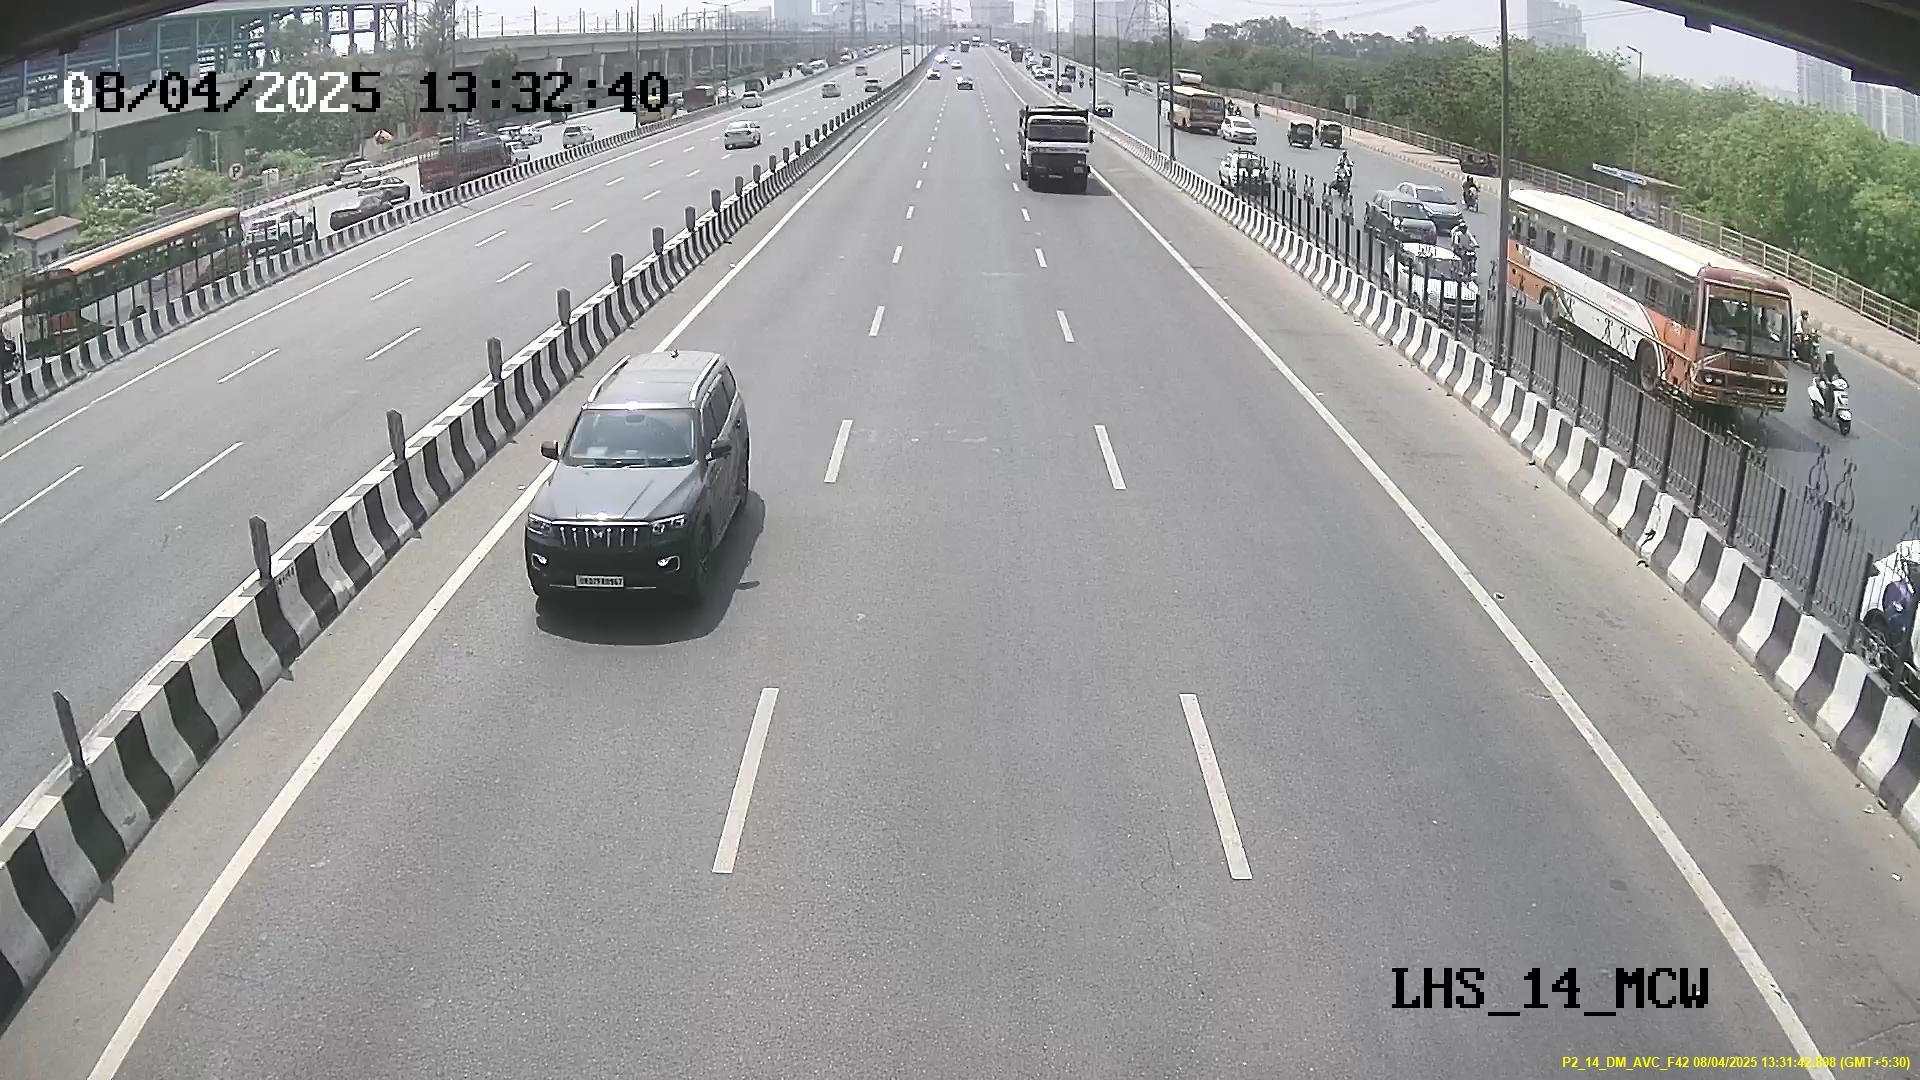car: (520, 376, 725, 612)
truck: (1021, 107, 1093, 189)
